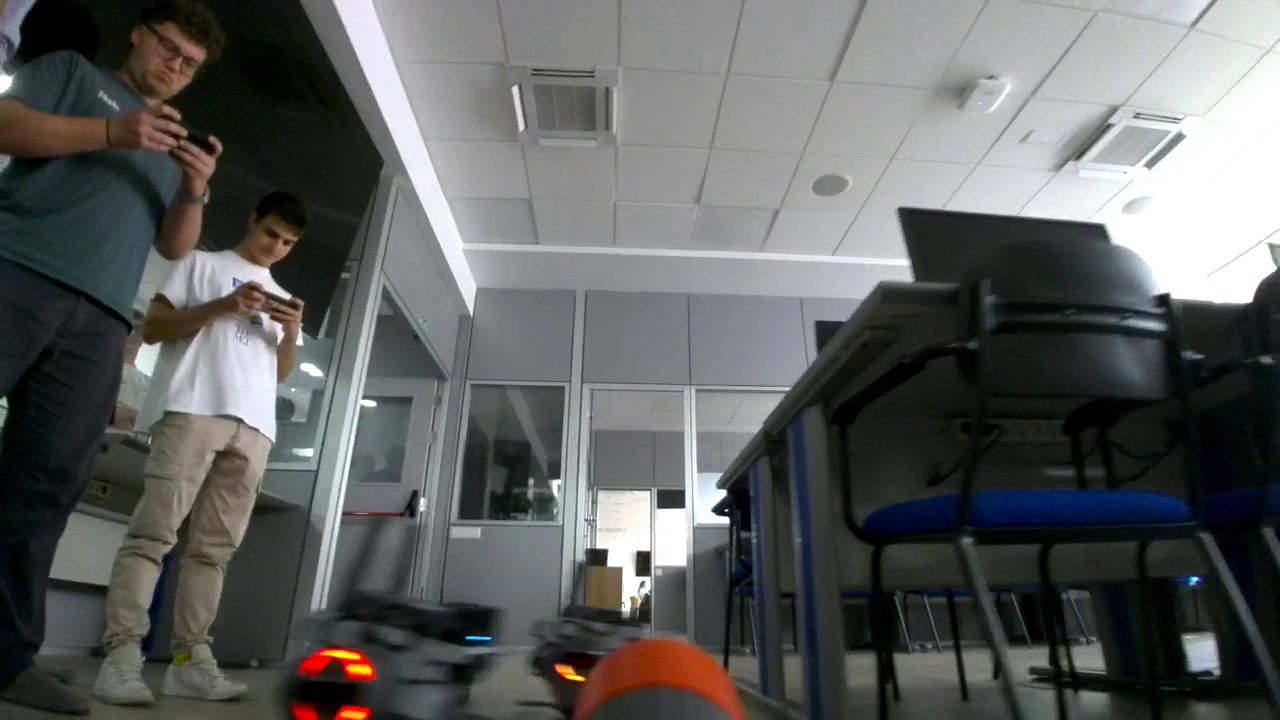robot: (249, 515, 492, 720), (508, 556, 691, 720)
